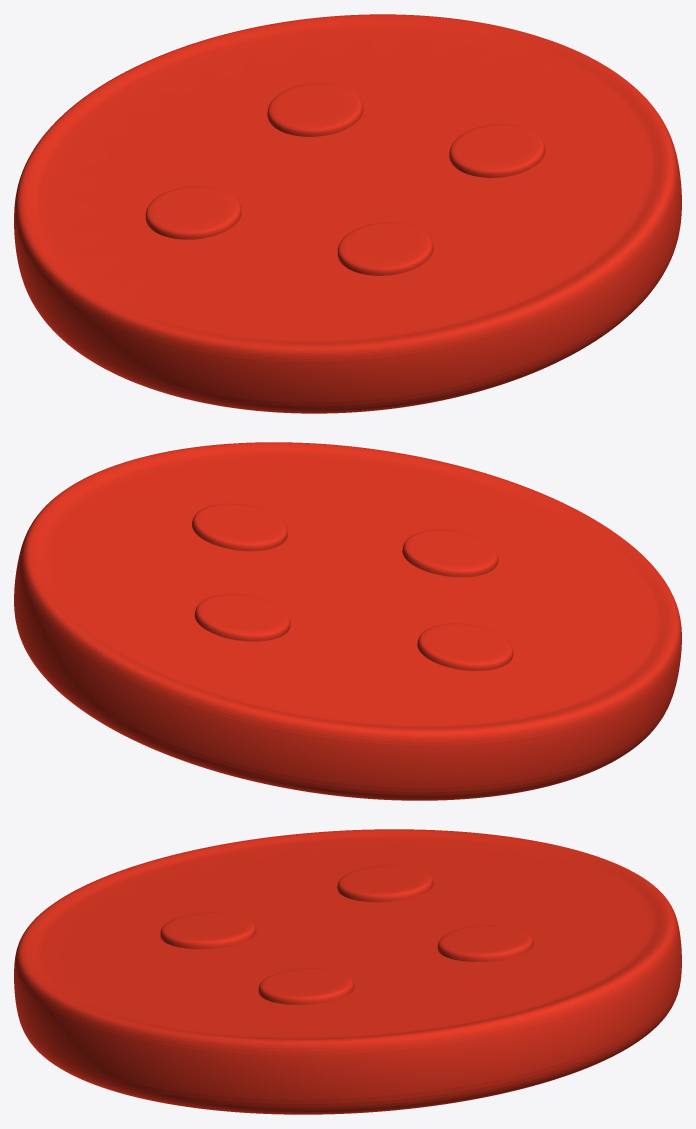
The model's file is tommate_4.fbx.
3 renders of one model, top to bottom at view 1: azimuth 30°, elevation 25°; view 2: azimuth 150°, elevation 25°; view 3: azimuth 270°, elevation 25°, orthographic.
Visible parts, largest first — view 1: tomato.005; view 2: tomato.005; view 3: tomato.005.
Part boxes in pixels (box(x1,y1,x2,y2)): tomato.005: box(14, 14, 681, 413); tomato.005: box(14, 442, 681, 800); tomato.005: box(14, 829, 681, 1114).
Bounding box in the file's own units: 106 × 24.73 × 106.
